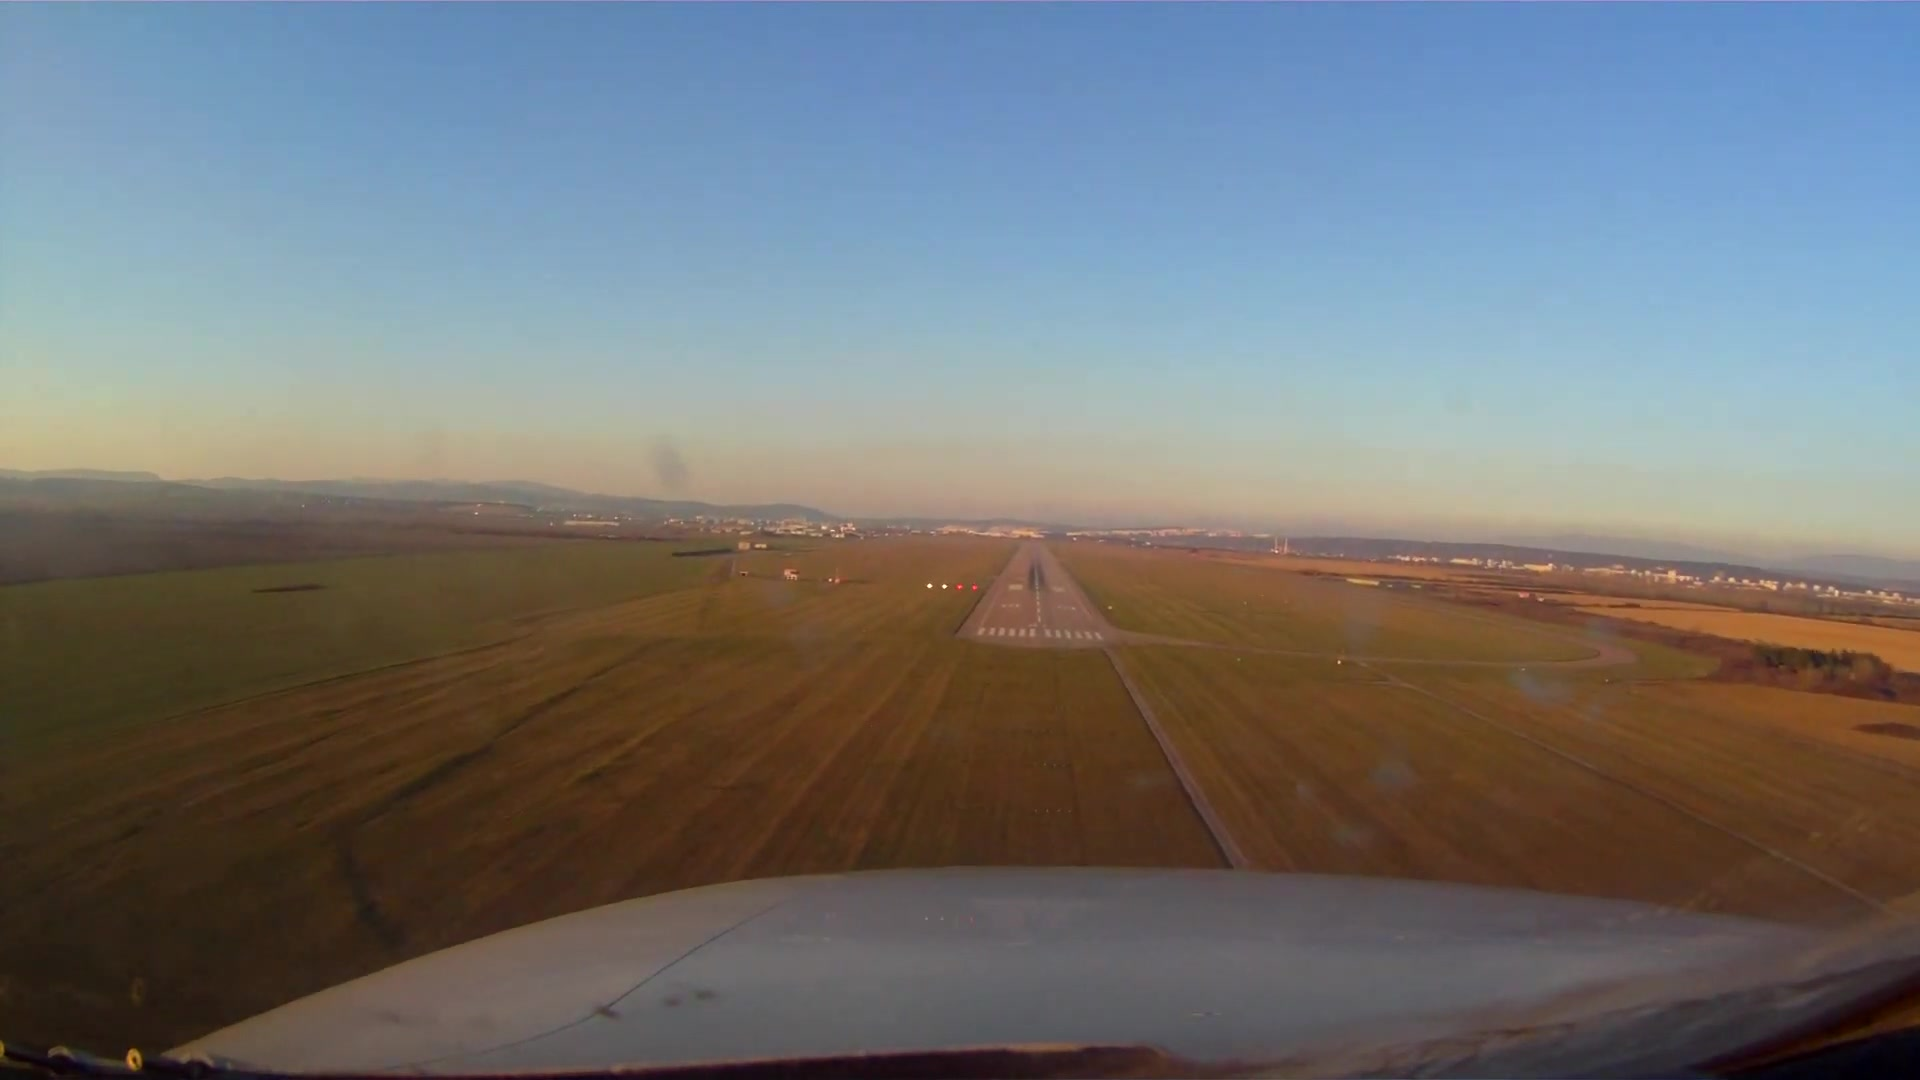entrance: (977, 624, 1105, 644)
runway: (952, 541, 1120, 650)
